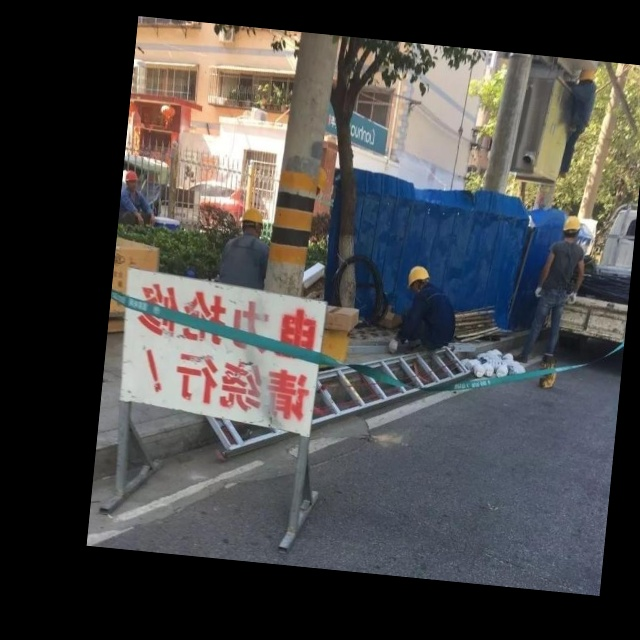Con_Casco: (406, 264, 431, 297), (564, 213, 582, 240)
